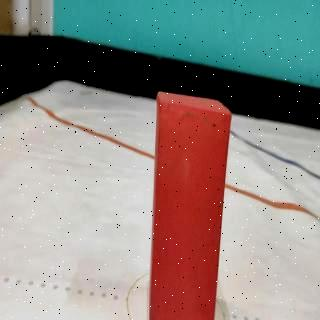redbox: (148, 89, 231, 320)
